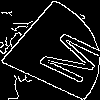M: (25, 25, 100, 86)
